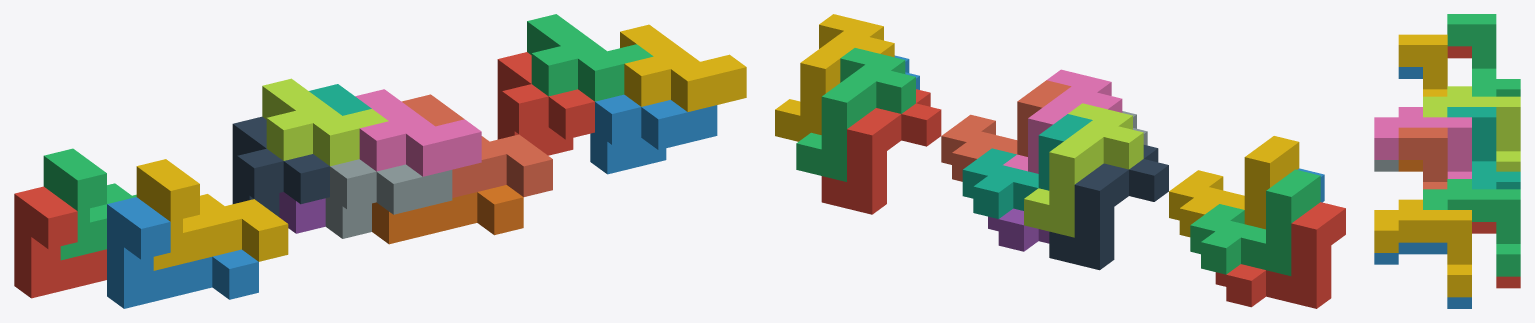
The model's file is tiling.obj.
The picture shows the model from 3 angles, left to right: view 1: azimuth 30°, elevation 25°; view 2: azimuth 150°, elevation 25°; view 3: azimuth 270°, elevation 25°; orthographic projection. The views are drawn at different scales.
Parts seen in each view (by area): view 1: copy_1_domain_2, copy_1_domain_4, copy_1_domain_1, copy_2_domain_8, copy_2_domain_6, copy_2_domain_4, copy_2_domain_3, copy_2_domain_7, copy_2_domain_5, copy_2_domain_2, copy_2_domain_1, copy_1_domain_8 (+4 smaller); view 2: copy_1_domain_3, copy_2_domain_7, copy_2_domain_3, copy_2_domain_1, copy_2_domain_5, copy_1_domain_1, copy_1_domain_4, copy_2_domain_8, copy_1_domain_7, copy_1_domain_8, copy_2_domain_4, copy_1_domain_5; view 3: copy_2_domain_8, copy_2_domain_7, copy_2_domain_4, copy_1_domain_3, copy_2_domain_3, copy_1_domain_7, copy_1_domain_4, copy_1_domain_8, copy_2_domain_6, copy_2_domain_5, copy_1_domain_1, copy_1_domain_2 (+2 smaller).
Part boxes in pixels (left/top/right/bottom): copy_1_domain_2: left=107, top=197, right=258, bottom=308; copy_1_domain_4: left=136, top=159, right=288, bottom=270; copy_1_domain_1: left=14, top=186, right=106, bottom=298; copy_2_domain_8: left=620, top=24, right=746, bottom=111; copy_2_domain_6: left=590, top=94, right=717, bottom=174; copy_2_domain_4: left=355, top=89, right=481, bottom=176; copy_2_domain_3: left=262, top=78, right=388, bottom=166; copy_2_domain_7: left=527, top=14, right=653, bottom=101; copy_2_domain_5: left=497, top=52, right=594, bottom=155; copy_2_domain_2: left=325, top=159, right=452, bottom=238; copy_2_domain_1: left=232, top=116, right=329, bottom=216; copy_1_domain_8: left=401, top=94, right=552, bottom=197; copy_1_domain_3: left=1190, top=169, right=1320, bottom=275; copy_2_domain_7: left=796, top=48, right=915, bottom=181; copy_2_domain_3: left=1024, top=103, right=1143, bottom=237; copy_2_domain_1: left=1049, top=145, right=1168, bottom=270; copy_2_domain_5: left=821, top=89, right=941, bottom=214; copy_1_domain_1: left=1215, top=202, right=1345, bottom=308; copy_1_domain_4: left=1169, top=136, right=1299, bottom=237; copy_2_domain_8: left=775, top=14, right=894, bottom=141; copy_1_domain_7: left=962, top=114, right=1092, bottom=218; copy_1_domain_8: left=941, top=80, right=1071, bottom=181; copy_2_domain_4: left=1003, top=69, right=1122, bottom=173; copy_1_domain_5: left=988, top=208, right=1049, bottom=251; copy_2_domain_8: left=1374, top=199, right=1471, bottom=297; copy_2_domain_7: left=1423, top=179, right=1520, bottom=276; copy_2_domain_4: left=1374, top=107, right=1471, bottom=178; copy_1_domain_3: left=1447, top=14, right=1520, bottom=96; copy_2_domain_3: left=1423, top=86, right=1520, bottom=171; copy_1_domain_7: left=1447, top=107, right=1520, bottom=189; copy_1_domain_4: left=1398, top=34, right=1447, bottom=96; copy_1_domain_8: left=1398, top=127, right=1447, bottom=189; copy_2_domain_6: left=1374, top=242, right=1471, bottom=308; copy_2_domain_5: left=1472, top=222, right=1520, bottom=288; copy_1_domain_1: left=1447, top=46, right=1471, bottom=58; copy_1_domain_2: left=1398, top=67, right=1422, bottom=78.
Size of the model in its own units: 22 by 4 by 6.
